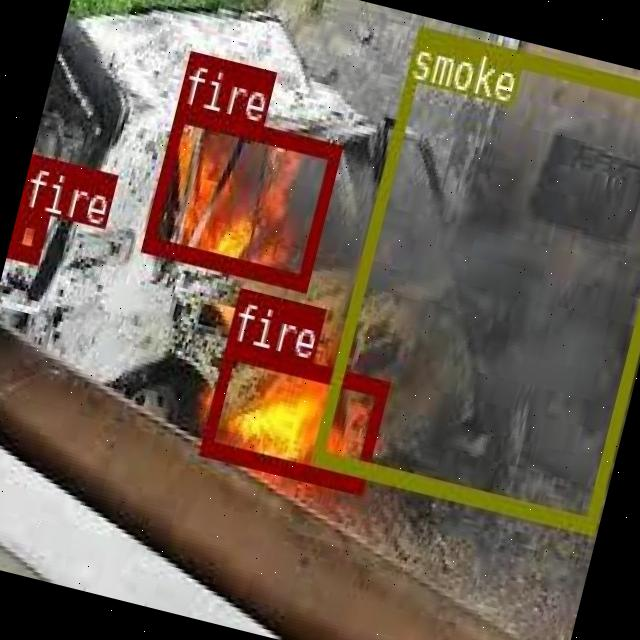fire: (140, 102, 340, 289), (198, 338, 388, 492), (7, 206, 46, 259)
smoke: (309, 24, 640, 530)
